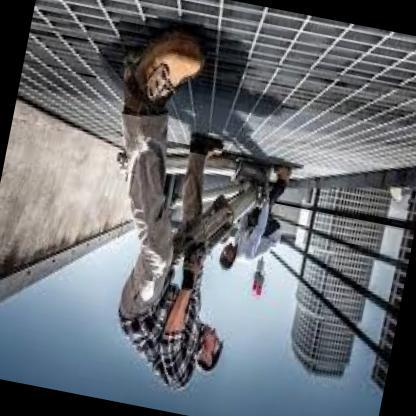safety-shoe: (108, 12, 215, 119), (183, 131, 226, 167), (269, 155, 296, 186)
